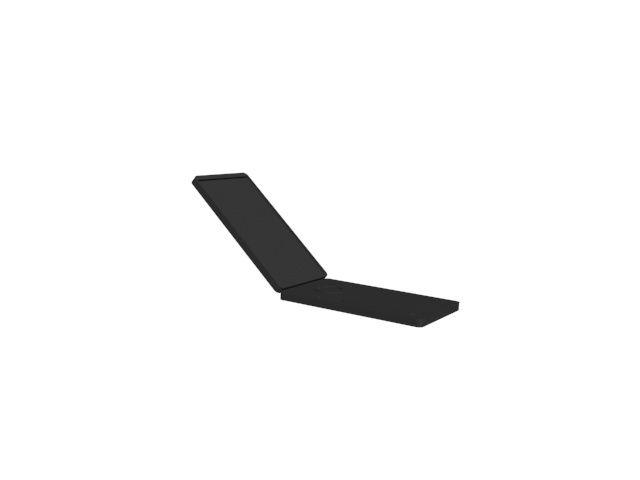mobile_phone: (185, 169, 464, 328)
